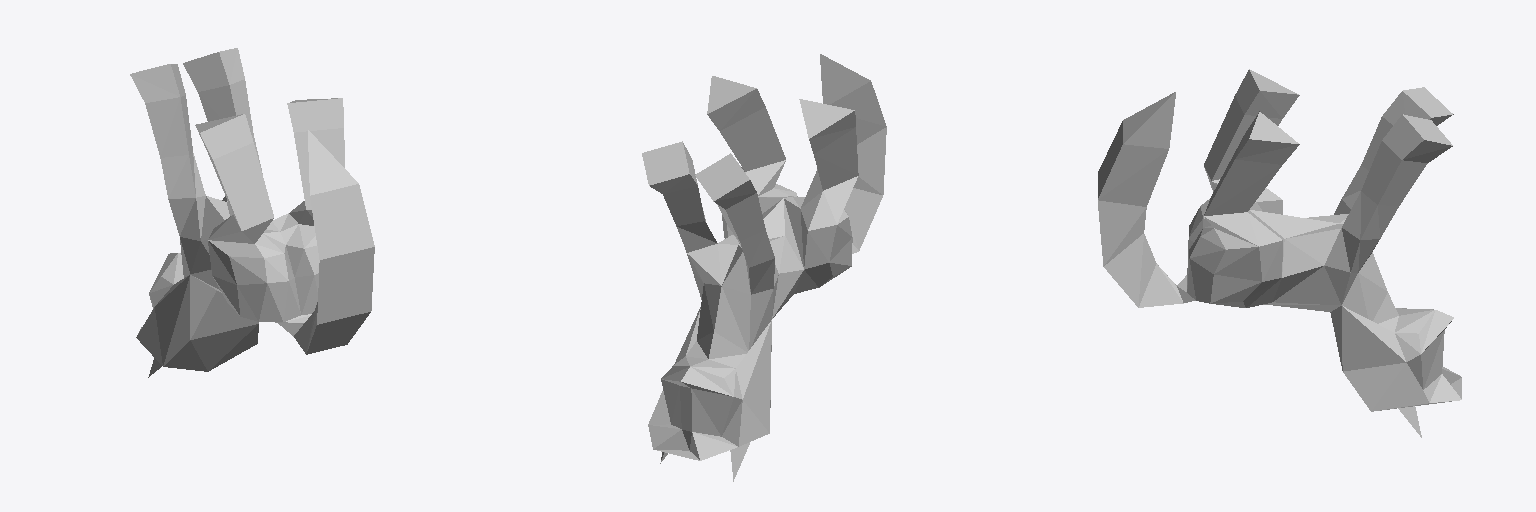
The model's file is PONY_000004.obj.
3 renders of one model, left to right at view 1: azimuth 30°, elevation 25°; view 2: azimuth 150°, elevation 25°; view 3: azimuth 270°, elevation 25°, orthographic.
Visible parts, largest first — view 1: pony; view 2: pony; view 3: pony.
Boxes of the visible parts, x1,y1,x2,y2 form: pony: [130, 48, 374, 377]; pony: [642, 54, 886, 481]; pony: [1098, 69, 1461, 437].
Size of the model in its own units: 4.07 by 8.95 by 8.98.